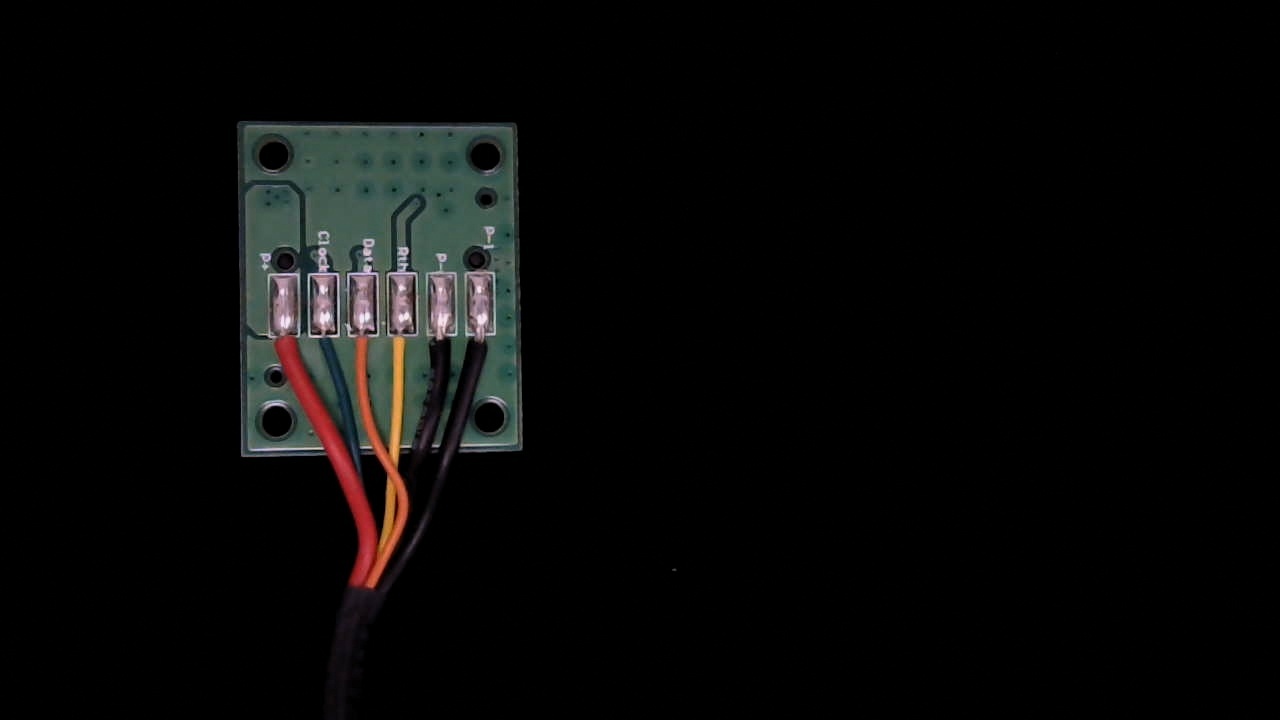Black: (424, 318, 458, 391)
Black1: (466, 316, 500, 383)
Green: (306, 314, 340, 375)
Orange: (346, 315, 379, 387)
Red: (268, 317, 302, 387)
Yellow: (388, 317, 422, 391)
